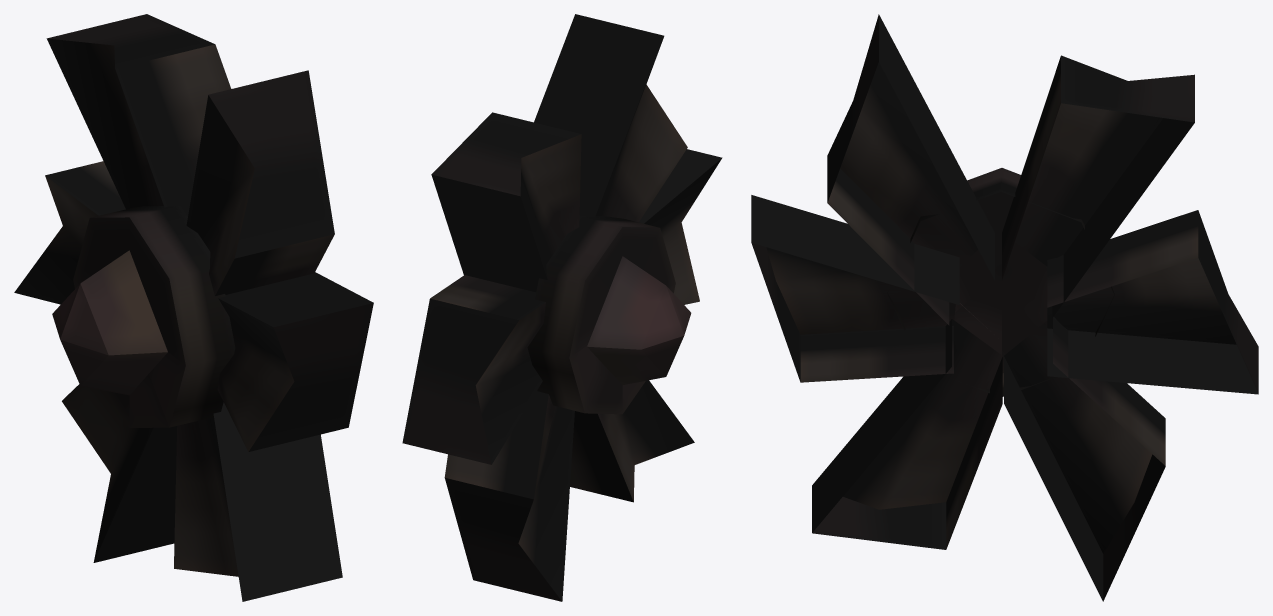
File: EnvBdgMD_Factory_C_Outdoor_Propeller_A.FBX
The picture shows the model from 3 angles, left to right: view 1: azimuth 30°, elevation 25°; view 2: azimuth 150°, elevation 25°; view 3: azimuth 270°, elevation 25°; orthographic projection. The views are drawn at different scales.
Visible parts, largest first — view 1: EnvBdgMD_Factory_C_Outdoor_Propeller_A; view 2: EnvBdgMD_Factory_C_Outdoor_Propeller_A; view 3: EnvBdgMD_Factory_C_Outdoor_Propeller_A.
Boxes of the visible parts, left/top/right/bottom form: EnvBdgMD_Factory_C_Outdoor_Propeller_A: left=14, top=14, right=373, bottom=601; EnvBdgMD_Factory_C_Outdoor_Propeller_A: left=402, top=14, right=722, bottom=601; EnvBdgMD_Factory_C_Outdoor_Propeller_A: left=751, top=14, right=1258, bottom=601.
Size of the model in its own units: 32.74 by 78.93 by 67.2.
